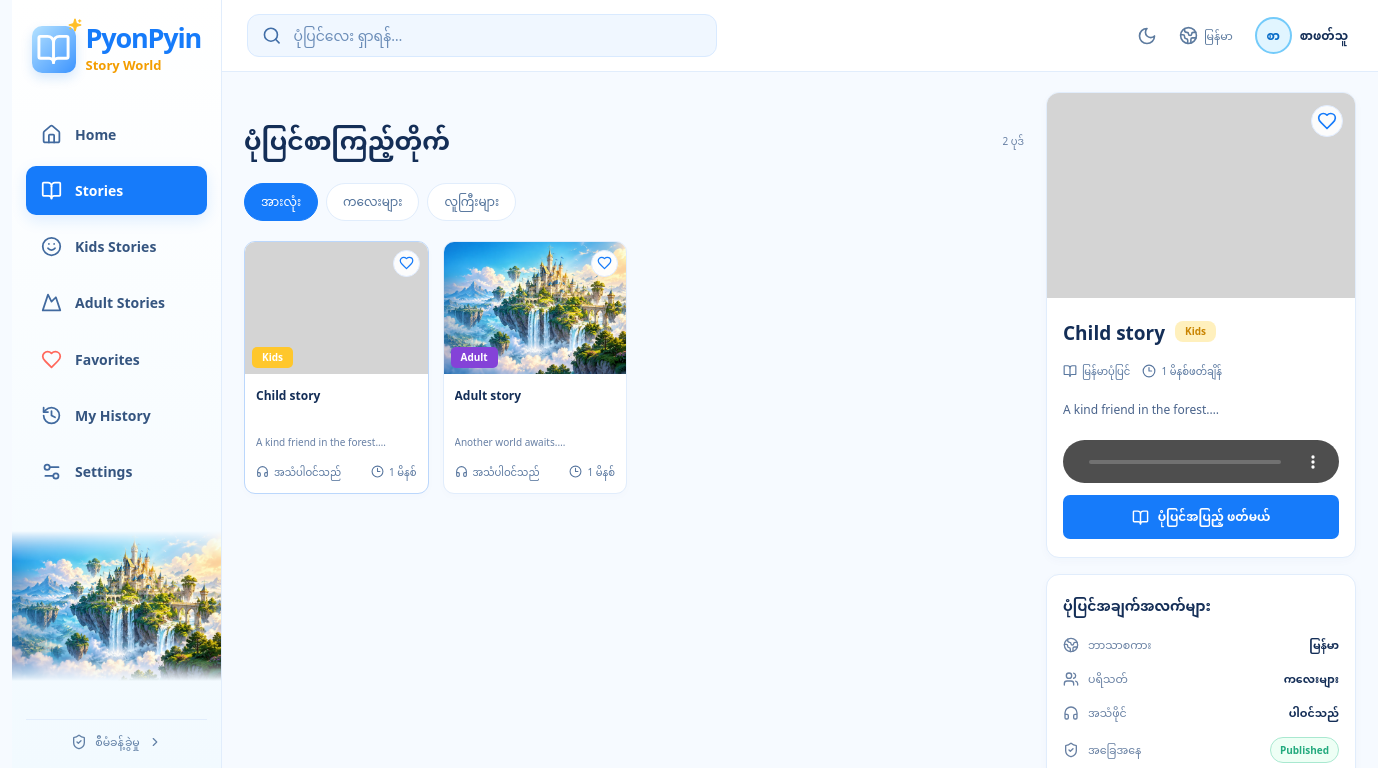
selects a real story preview and its audio, and keeps favorites in this browser
Click the button named "Adult story အကြိုကြည့်ရန်" at point(535, 308), box 444,242 -> 626,374
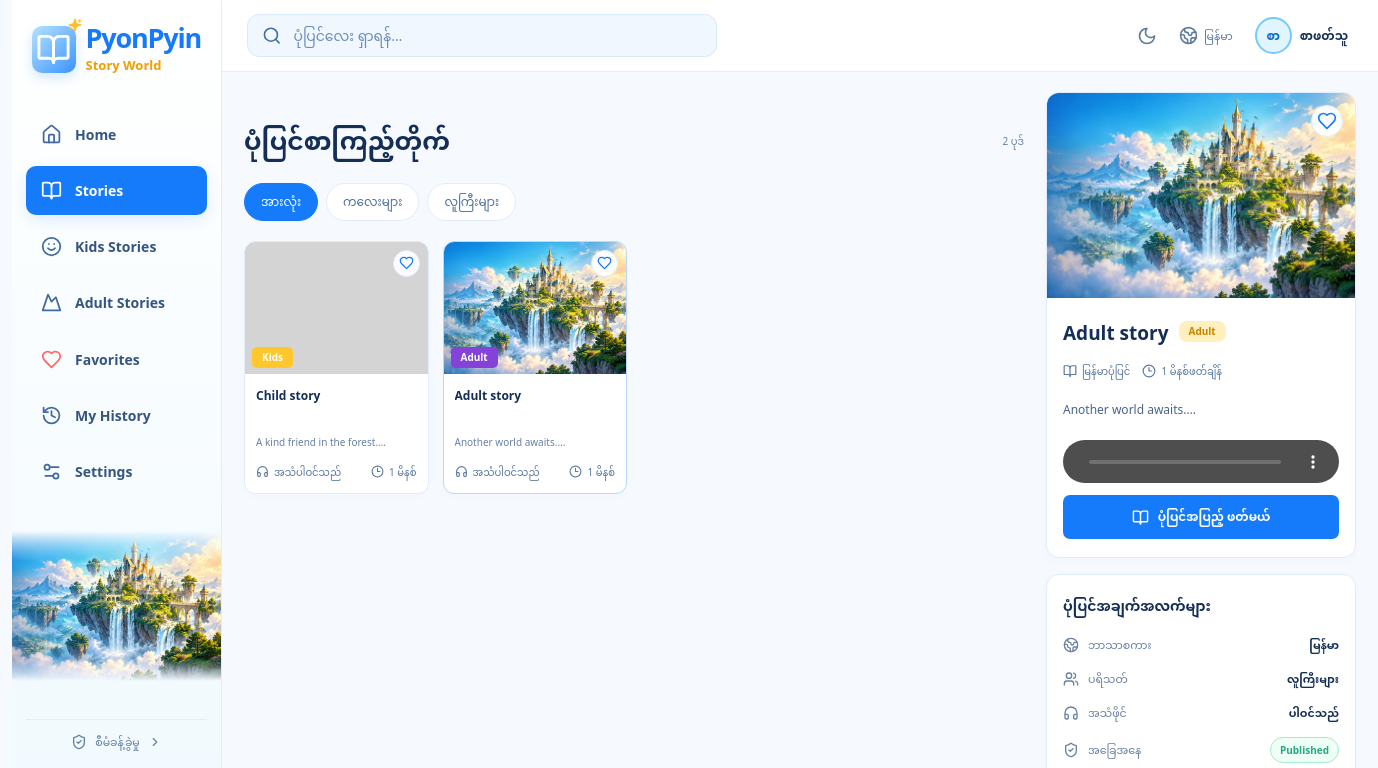
Click the button named "Adult story သိမ်းထားရန်" below "ပုံပြင်စာကြည့်တိုက်" at point(604, 263), box 591,250 -> 618,277
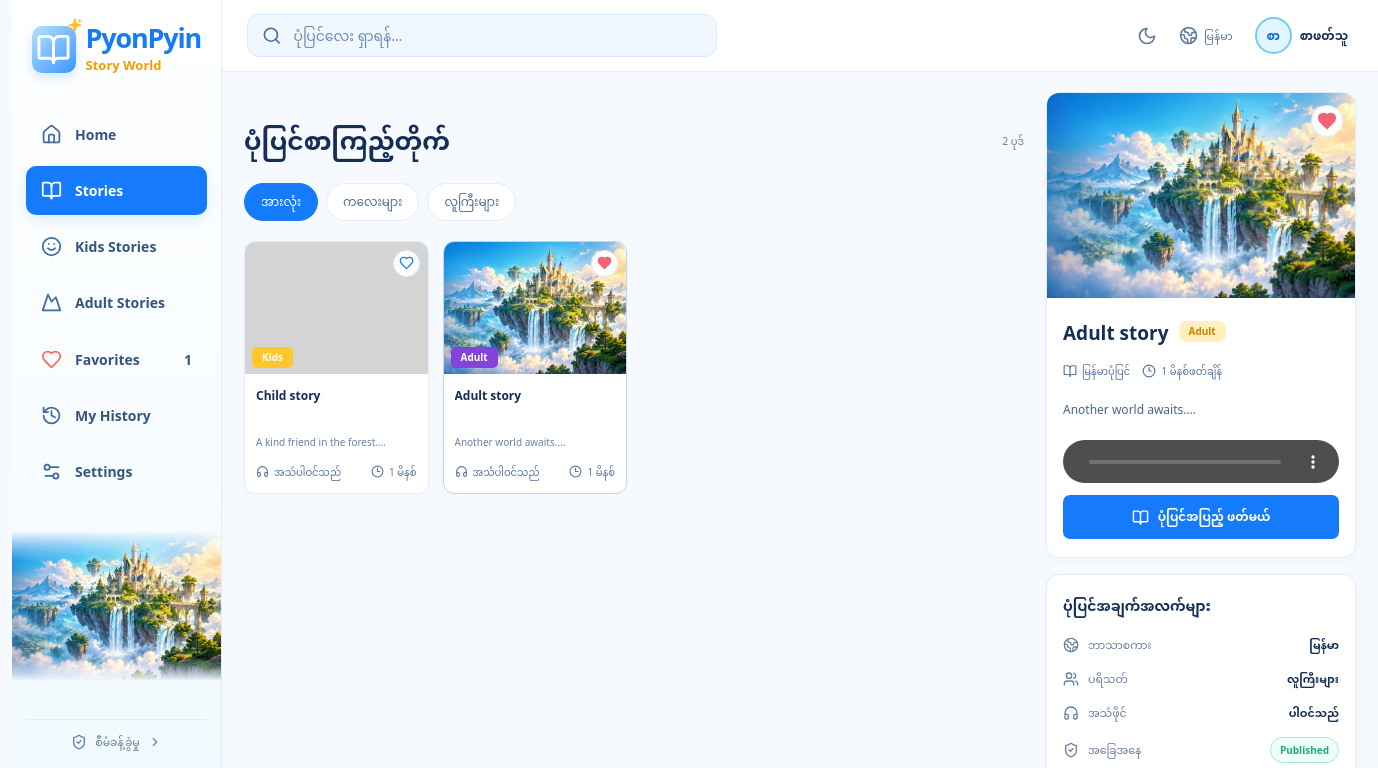
Click the link "Favorites 1" at point(116, 359), box 41,349 -> 192,370
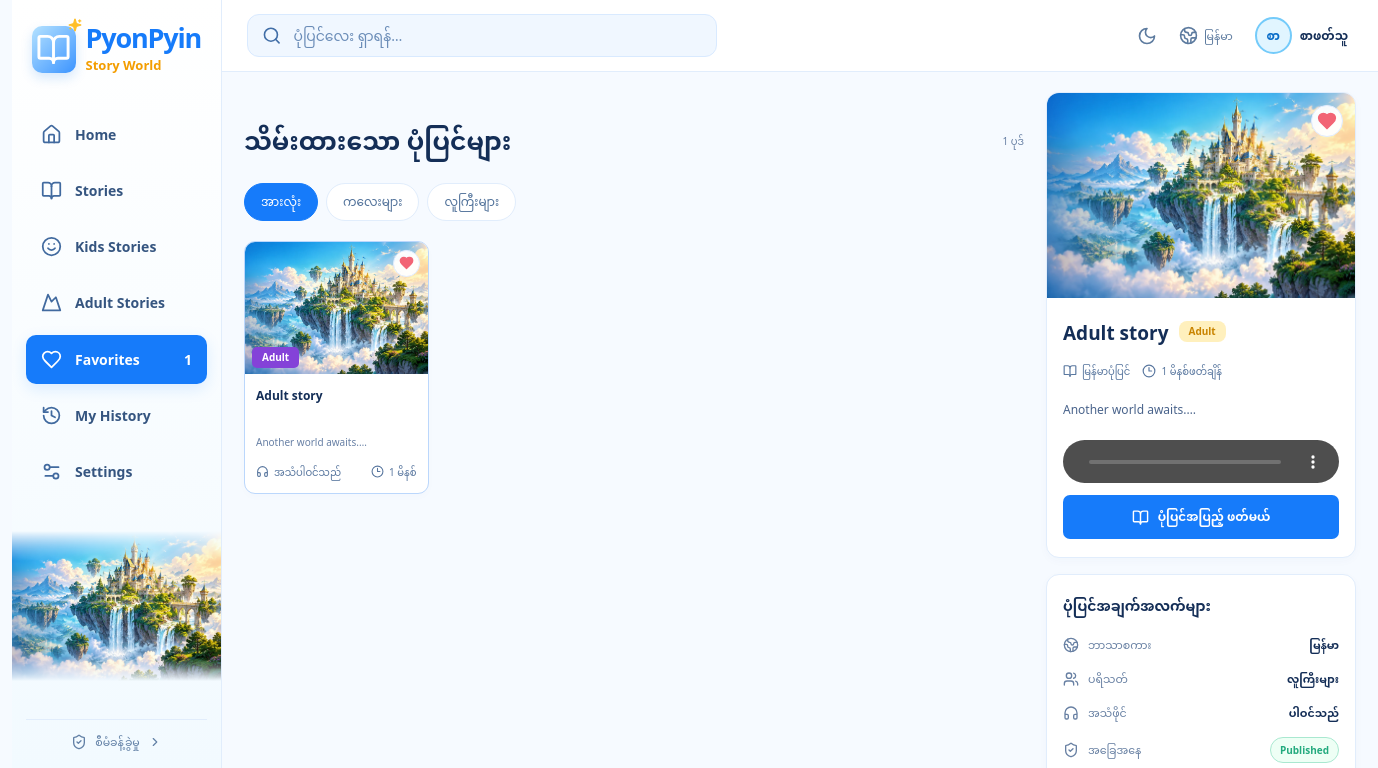
Expected: the heading "Adult story" below "သိမ်းထားသော ပုံပြင်များ" is shown, 256,387 -> 323,404
Result: the link "Child story" is gone
